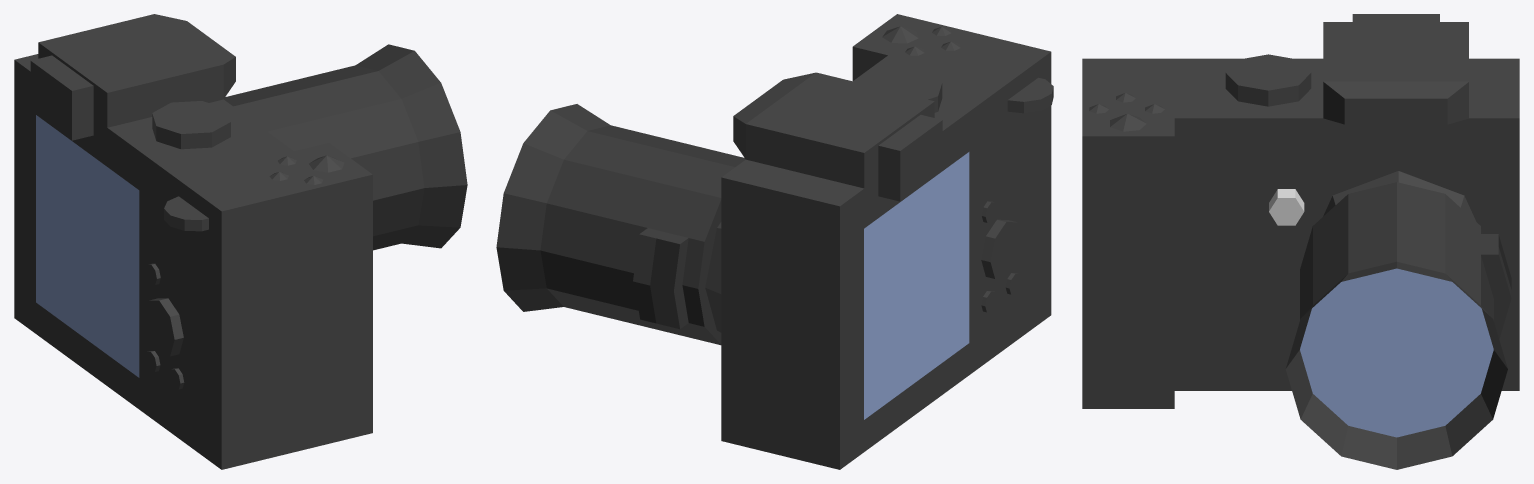
Rendered from DSLR.glb.
The picture shows the model from 3 angles, left to right: view 1: azimuth 30°, elevation 25°; view 2: azimuth 150°, elevation 25°; view 3: azimuth 270°, elevation 25°; orthographic projection. The views are drawn at different scales.
Visible parts, largest first — view 1: Cube, Cylinder, Plane, Cylinder.002; view 2: Cube, Cylinder, Plane, Cylinder.002; view 3: Cube, Cylinder, Cylinder.003, Cylinder.001.
Part boxes in pixels (x1,y1,x2,y2): Cube: (14,14,372,469); Cylinder: (223,44,467,250); Plane: (36,115,139,377); Cylinder.002: (164,196,208,231); Cube: (705,14,1051,469); Cylinder: (496,104,745,345); Plane: (864,152,969,419); Cylinder.002: (1007,77,1053,113); Cube: (1082,14,1519,408); Cylinder: (1285,182,1511,469); Cylinder.003: (1300,268,1493,437); Cylinder.001: (1269,189,1304,225).
Size of the model in its own units: 4.8 by 3.66 by 4.69.
